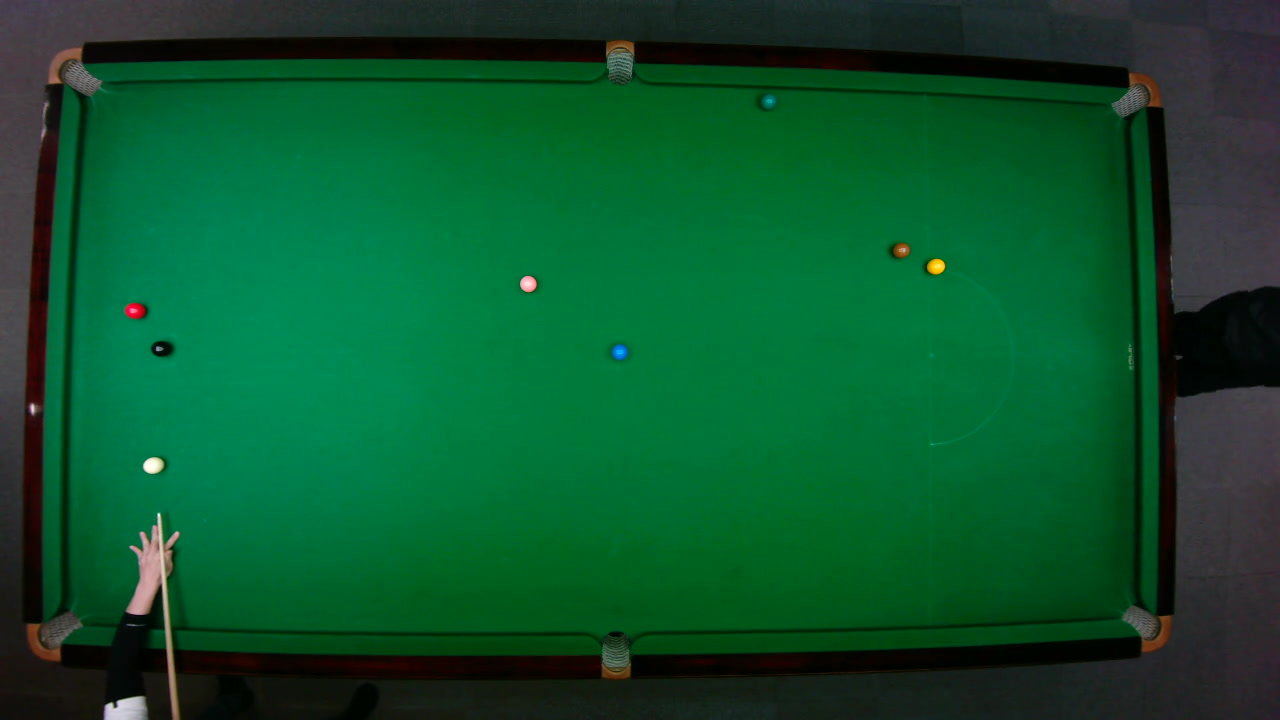bag: (24, 609, 83, 662), (45, 46, 103, 96), (1119, 603, 1171, 652), (1108, 71, 1161, 118), (600, 629, 629, 680), (605, 38, 633, 85)
black: (149, 339, 172, 357)
blue: (610, 343, 628, 360)
brown: (890, 241, 911, 258)
cue: (153, 510, 185, 720)
green: (759, 93, 776, 110)
pink: (518, 274, 537, 292)
red: (123, 301, 146, 319)
white: (141, 455, 165, 473)
yellow: (924, 256, 946, 275)
zone: (927, 266, 1013, 445)
